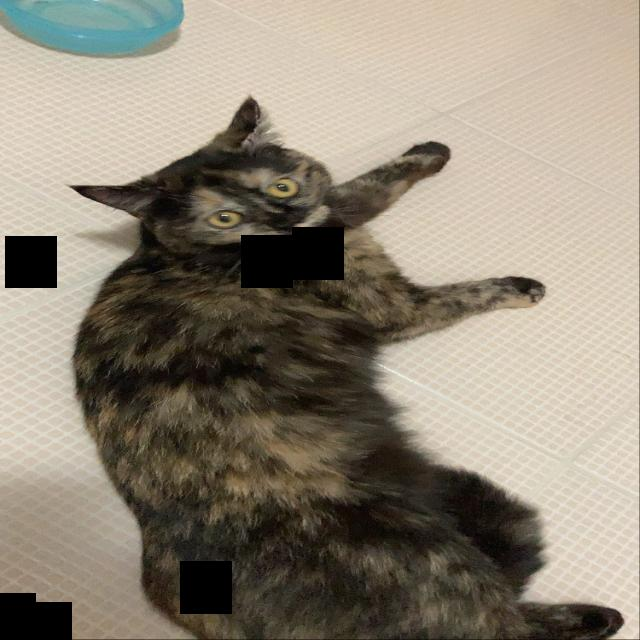authorized: (66, 94, 624, 639)
